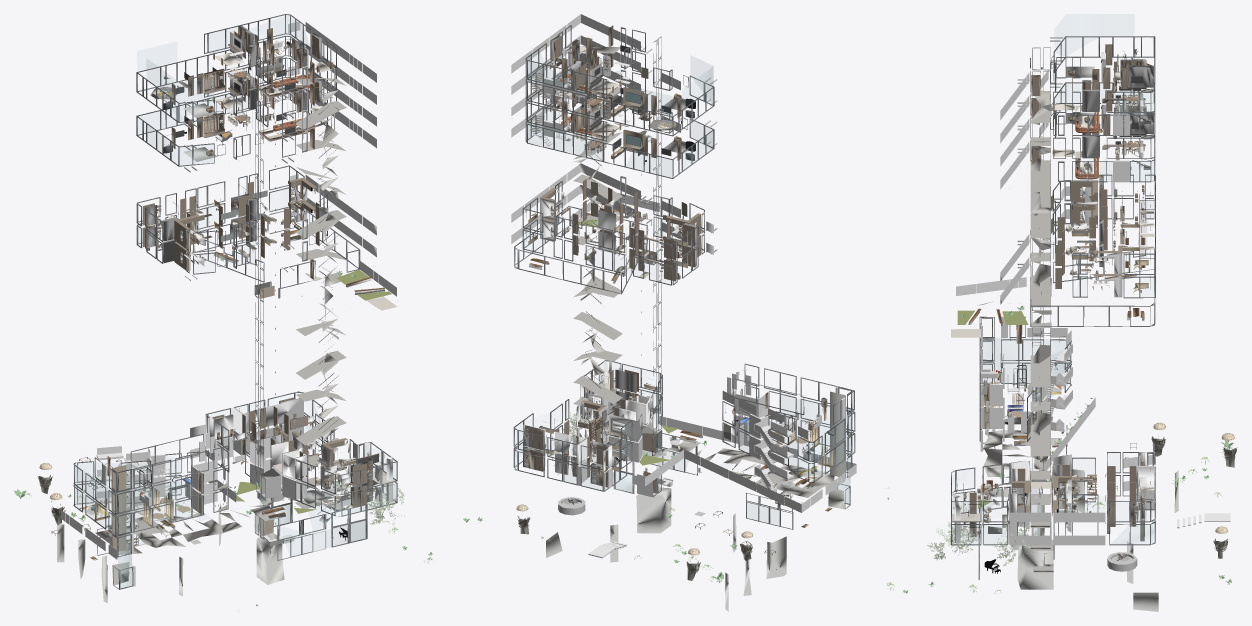
File: muebles.glb
3 renders of one model, left to right at view 1: azimuth 30°, elevation 25°; view 2: azimuth 150°, elevation 25°; view 3: azimuth 270°, elevation 25°, orthographic. The views are drawn at different scales.
Visible parts, largest first — view 1: object 1, Mesh2 Group4 Group2 Group1 Model, Mesh8 Group12 Group9 Group1 Model, Mesh487 Group423 Group422 Group421 Group420 Group1 Model, Mesh6477 Group3330 Group1 Model, object 2, Mesh309 Group258 Group1 Model, Mesh537 Group468 Group456 Group1 Model, Mesh9 _8G00452X_8_1 Group19 Group18 Group17 Group16 Group15 , Mesh478 Group413 Group1 Model, Mesh3181 Group1304 Group1 Model, Mesh4067 Group1769 Group1 Model (+3 smaller); view 2: object 1, Mesh8 Group12 Group9 Group1 Model, Mesh2 Group4 Group2 Group1 Model, Mesh487 Group423 Group422 Group421 Group420 Group1 Model, Mesh6477 Group3330 Group1 Model, Mesh309 Group258 Group1 Model, Mesh537 Group468 Group456 Group1 Model, object 2, Mesh4067 Group1769 Group1 Model, Mesh478 Group413 Group1 Model, Mesh9 _8G00452X_8_1 Group19 Group18 Group17 Group16 Group15 , Mesh4937 Group2201 Group1 Model; view 3: object 1, Mesh8 Group12 Group9 Group1 Model, Mesh2 Group4 Group2 Group1 Model, Mesh487 Group423 Group422 Group421 Group420 Group1 Model, Mesh6477 Group3330 Group1 Model, object 2, Mesh537 Group468 Group456 Group1 Model, Mesh478 Group413 Group1 Model, Mesh310 Group259 Group1 Model, Mesh3181 Group1304 Group1 Model, Mesh4067 Group1769 Group1 Model, Mesh4937 Group2201 Group1 Model.
Boxes of the visible parts, bbox=[...] form: object 1: bbox=[25, 68, 432, 611]; Mesh2 Group4 Group2 Group1 Model: bbox=[74, 14, 397, 589]; Mesh8 Group12 Group9 Group1 Model: bbox=[61, 21, 396, 586]; Mesh487 Group423 Group422 Group421 Group420 Group1 Model: bbox=[171, 26, 372, 507]; Mesh6477 Group3330 Group1 Model: bbox=[57, 505, 284, 603]; object 2: bbox=[38, 78, 404, 529]; Mesh309 Group258 Group1 Model: bbox=[111, 465, 280, 585]; Mesh537 Group468 Group456 Group1 Model: bbox=[152, 25, 372, 505]; Mesh9 _8G00452X_8_1 Group19 Group18 Group17 Group16 Group15 : bbox=[98, 89, 365, 589]; Mesh478 Group413 Group1 Model: bbox=[143, 423, 357, 502]; Mesh3181 Group1304 Group1 Model: bbox=[236, 269, 391, 513]; Mesh4067 Group1769 Group1 Model: bbox=[175, 37, 309, 137]; object 1: bbox=[511, 36, 834, 581]; Mesh8 Group12 Group9 Group1 Model: bbox=[511, 14, 856, 558]; Mesh2 Group4 Group2 Group1 Model: bbox=[513, 25, 855, 529]; Mesh487 Group423 Group422 Group421 Group420 Group1 Model: bbox=[528, 25, 681, 487]; Mesh6477 Group3330 Group1 Model: bbox=[546, 487, 786, 611]; Mesh309 Group258 Group1 Model: bbox=[642, 391, 845, 509]; Mesh537 Group468 Group456 Group1 Model: bbox=[523, 35, 675, 484]; object 2: bbox=[517, 46, 752, 580]; Mesh4067 Group1769 Group1 Model: bbox=[530, 45, 671, 158]; Mesh478 Group413 Group1 Model: bbox=[555, 408, 792, 515]; Mesh9 _8G00452X_8_1 Group19 Group18 Group17 Group16 Group15 : bbox=[551, 67, 852, 512]; Mesh4937 Group2201 Group1 Model: bbox=[566, 46, 619, 135]; object 1: bbox=[886, 47, 1234, 593]; Mesh8 Group12 Group9 Group1 Model: bbox=[954, 37, 1230, 567]; Mesh2 Group4 Group2 Group1 Model: bbox=[951, 36, 1155, 579]; Mesh487 Group423 Group422 Group421 Group420 Group1 Model: bbox=[969, 44, 1146, 536]; Mesh6477 Group3330 Group1 Model: bbox=[1017, 469, 1178, 611]; object 2: bbox=[927, 67, 1237, 567]; Mesh537 Group468 Group456 Group1 Model: bbox=[1082, 59, 1153, 541]; Mesh478 Group413 Group1 Model: bbox=[1018, 376, 1138, 571]; Mesh310 Group259 Group1 Model: bbox=[1030, 494, 1053, 572]; Mesh3181 Group1304 Group1 Model: bbox=[957, 310, 1075, 508]; Mesh4067 Group1769 Group1 Model: bbox=[1053, 55, 1150, 179]; Mesh4937 Group2201 Group1 Model: bbox=[1052, 71, 1120, 175].
Bounding box in the file's own units: 44.75 × 76.39 × 45.71.
